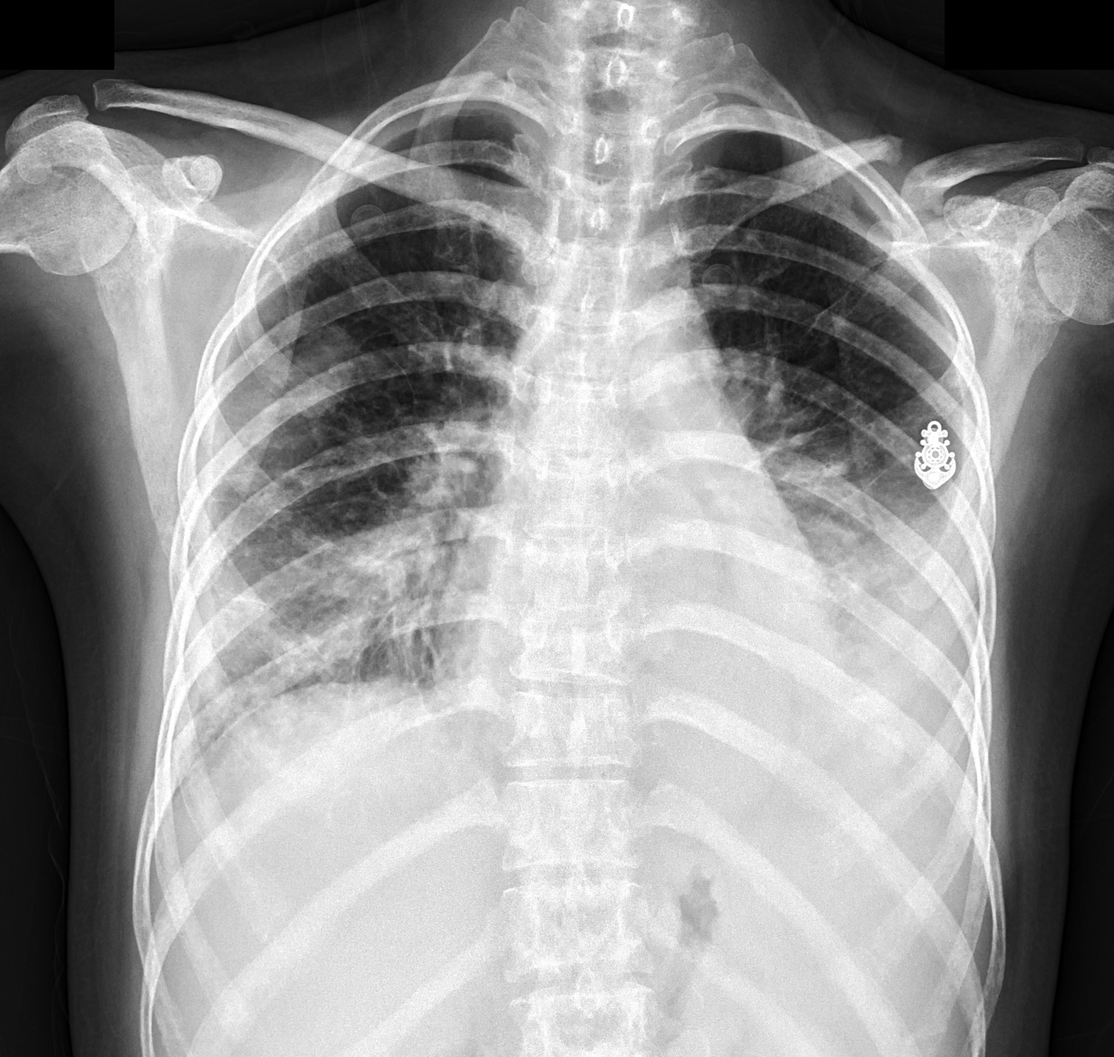Pulmonary fibrosis: (182, 319, 465, 785), (749, 455, 940, 602)
